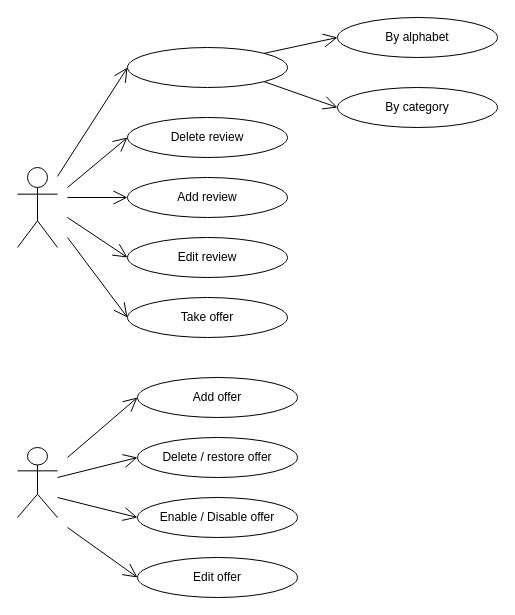
This 515x615 diagram has some shape labels left out. The shapes that lost their labels are listed below. From the top down, each one's centre as x and y in pixels, then its label:
At (207,67): "Find shops".
At (37,207): "User".
At (37,482): "Shop".
